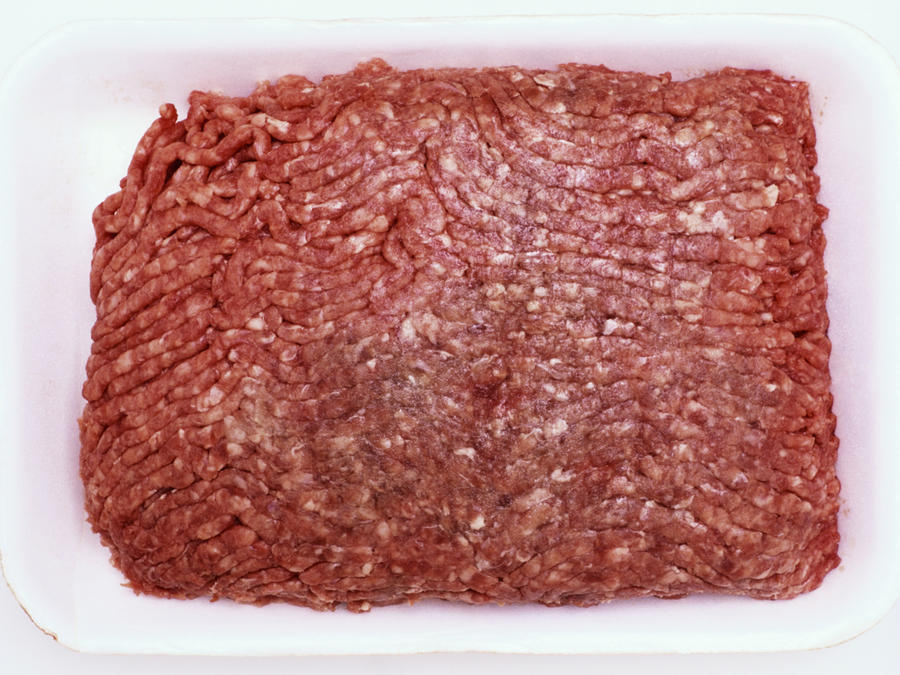ground_beef: (104, 87, 831, 622)
